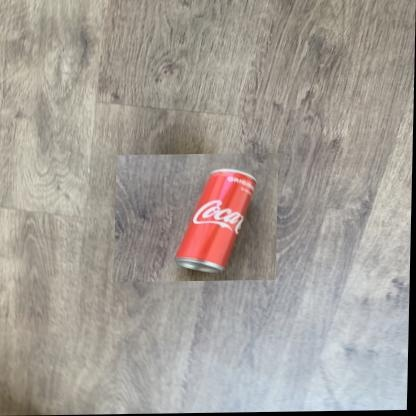trash: (176, 169, 255, 273)
